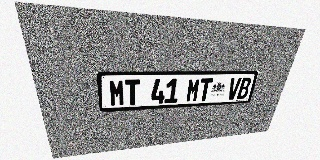1: (164, 79, 180, 103)
4: (151, 79, 166, 104)
B: (236, 78, 252, 99)
M: (108, 79, 125, 107), (186, 78, 201, 102)
T: (125, 79, 140, 106), (198, 78, 213, 101)
V: (226, 78, 242, 100)
